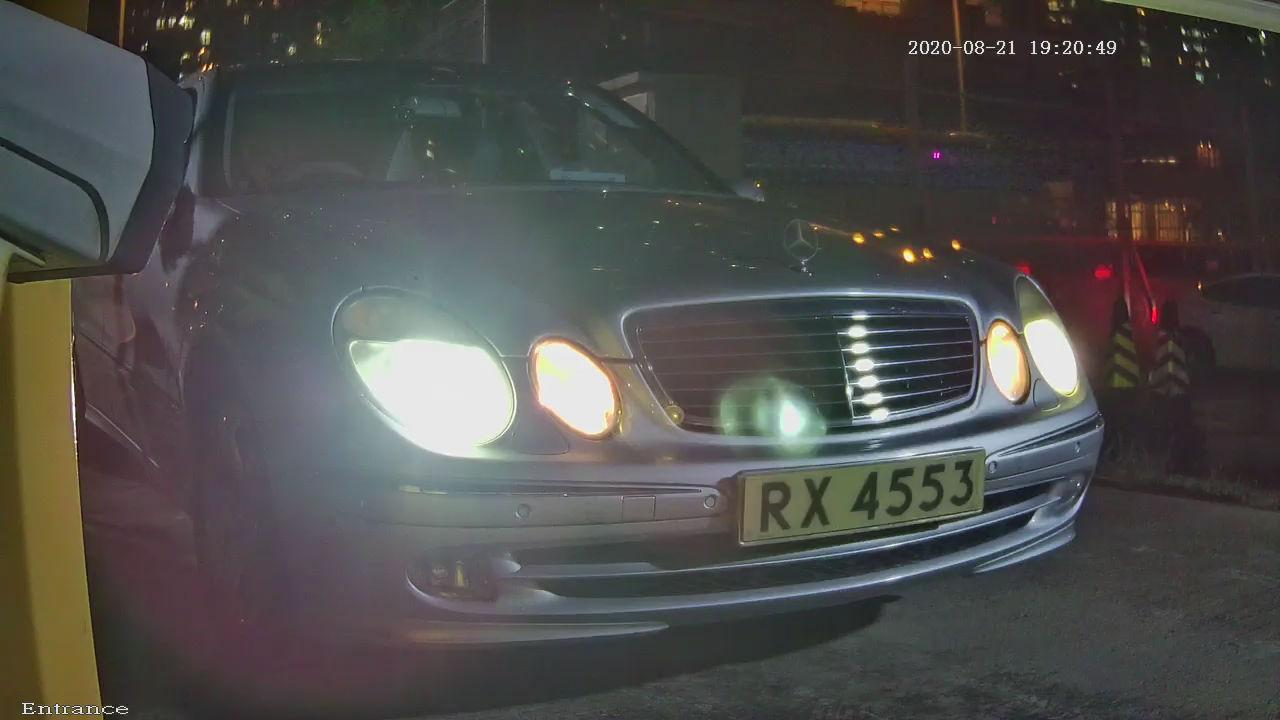Car: (29, 4, 1195, 679)
License Plate: (684, 426, 1027, 587)
